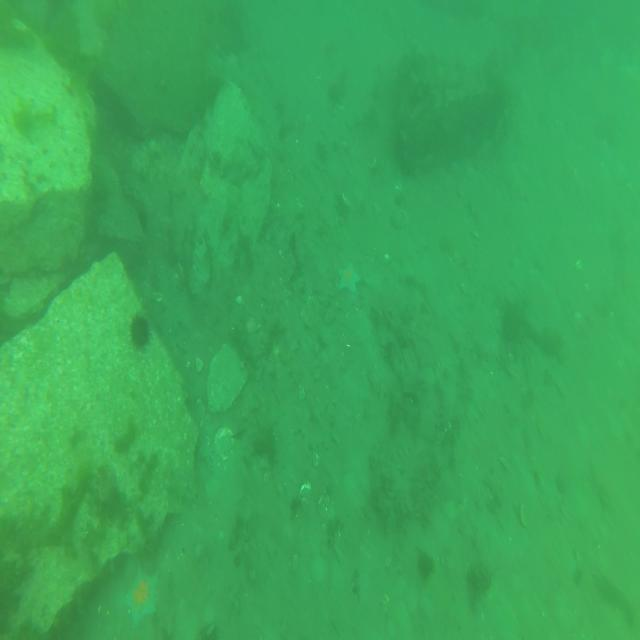echinus: (129, 311, 152, 353), (123, 193, 148, 228)
starfish: (122, 566, 158, 628), (337, 260, 360, 297), (214, 427, 235, 465), (224, 52, 241, 77)
